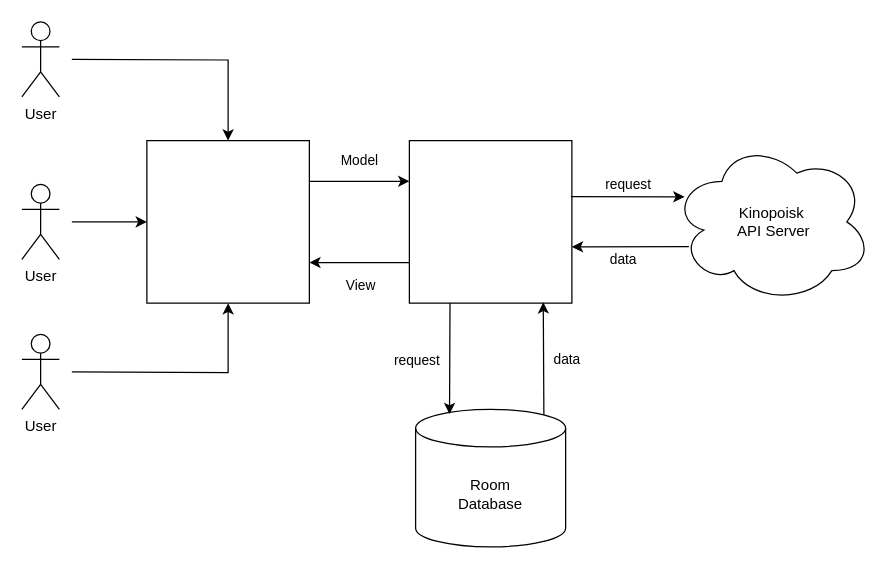
Image size: 894x569. Some labels were removed from this diagram. The shapes that lost their labels are listed below. From the top down, each one's centre as x and y in pixels, then its label:
point 227,221: Android App
point 490,221: ViewModel
